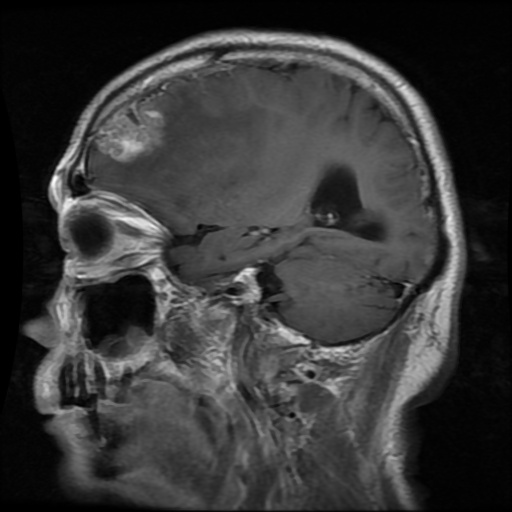meningioma: (96, 103, 166, 162)
